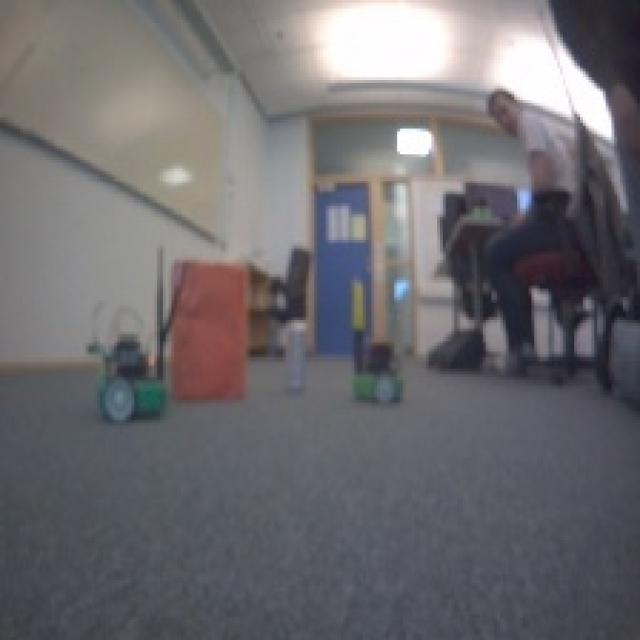robot: (87, 334, 171, 428), (349, 338, 407, 406)
target: (165, 257, 248, 400)
